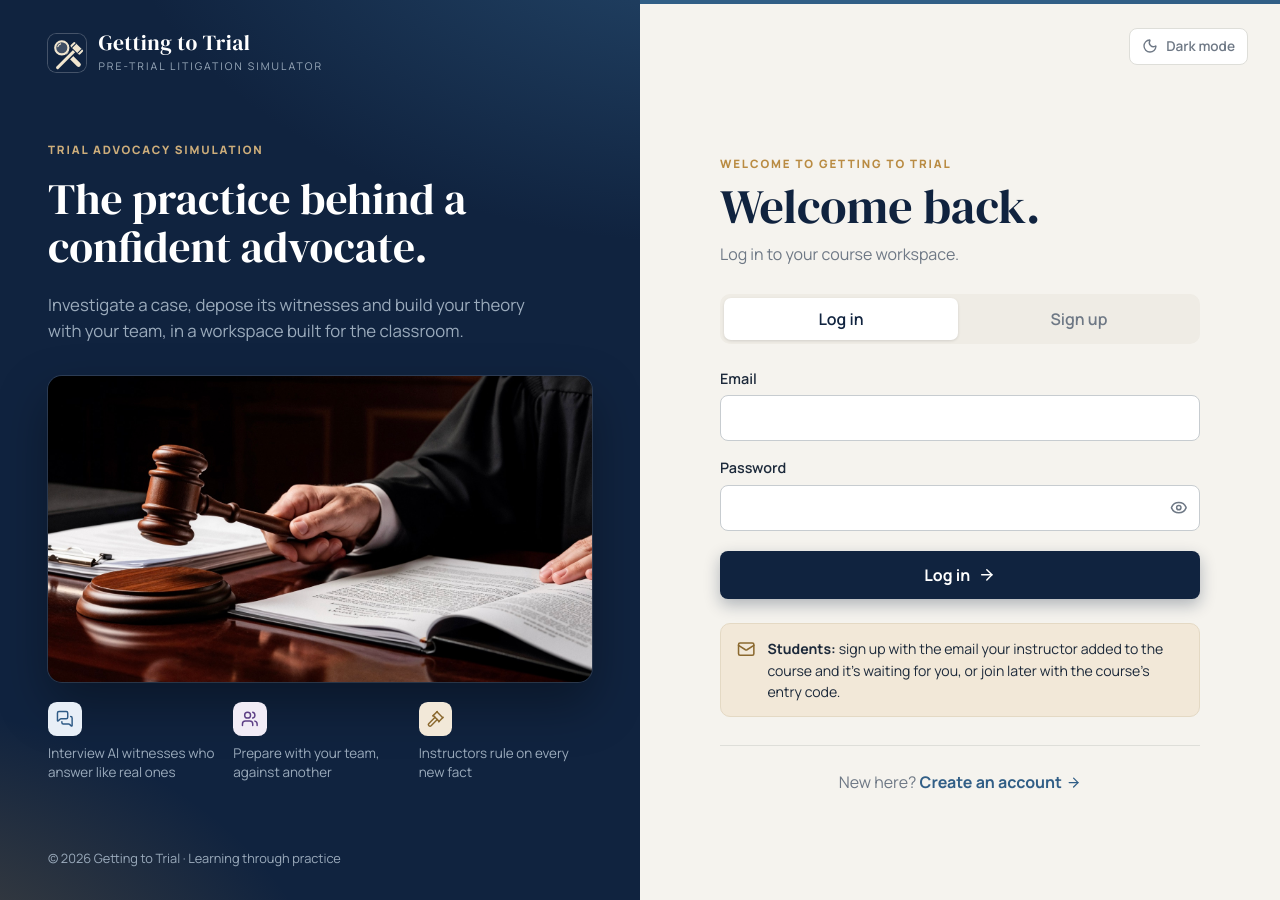
Test case: log in › logs in and shows the home page
Expected: the heading "Welcome back." is shown, [720,173,1040,239]
In the field labelled "Email": {"x": 960, "y": 418} [720,395,1200,442], type "ada@example.com"
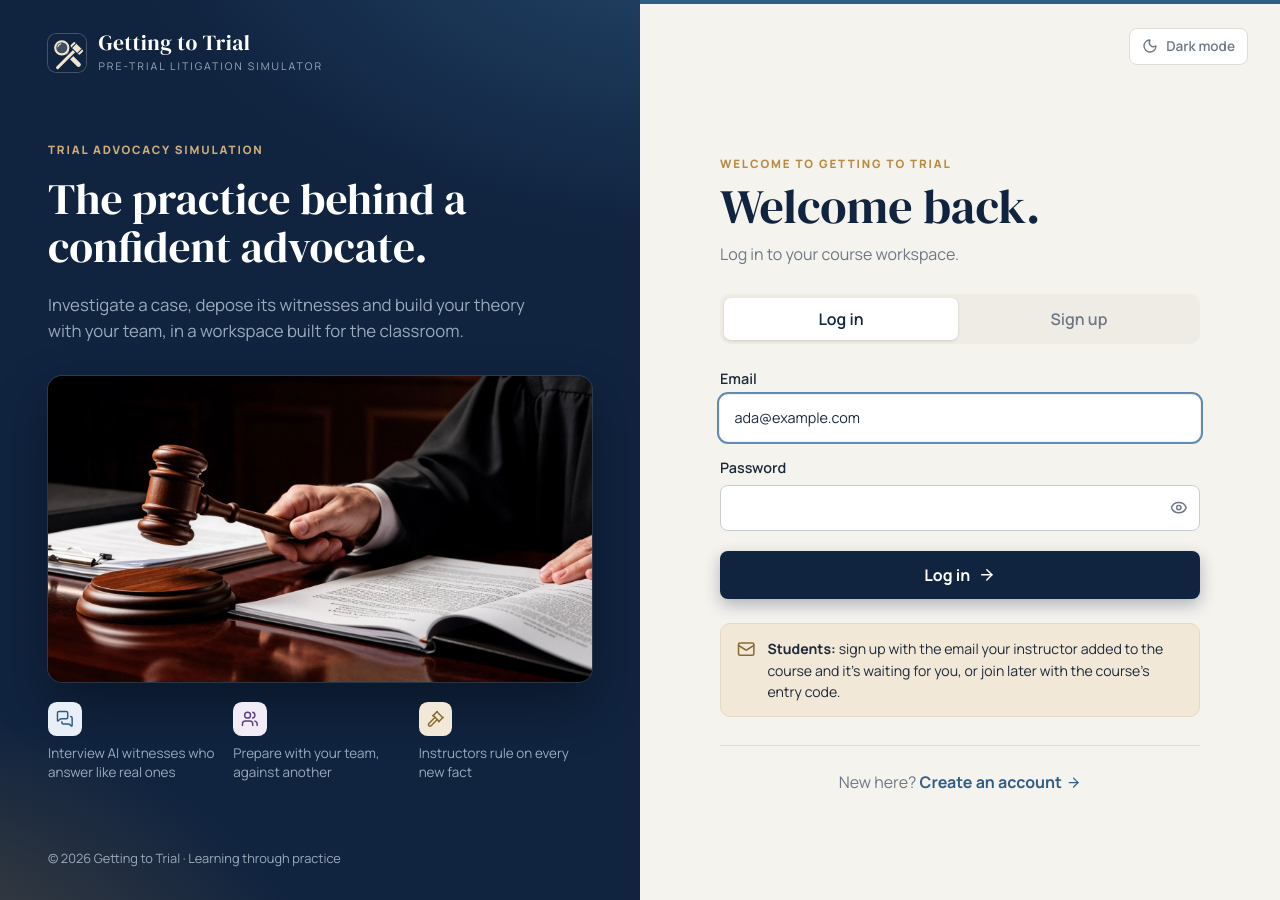
In the password field labelled "Password": {"x": 960, "y": 508} [720,485,1200,531], type "correct-horse"
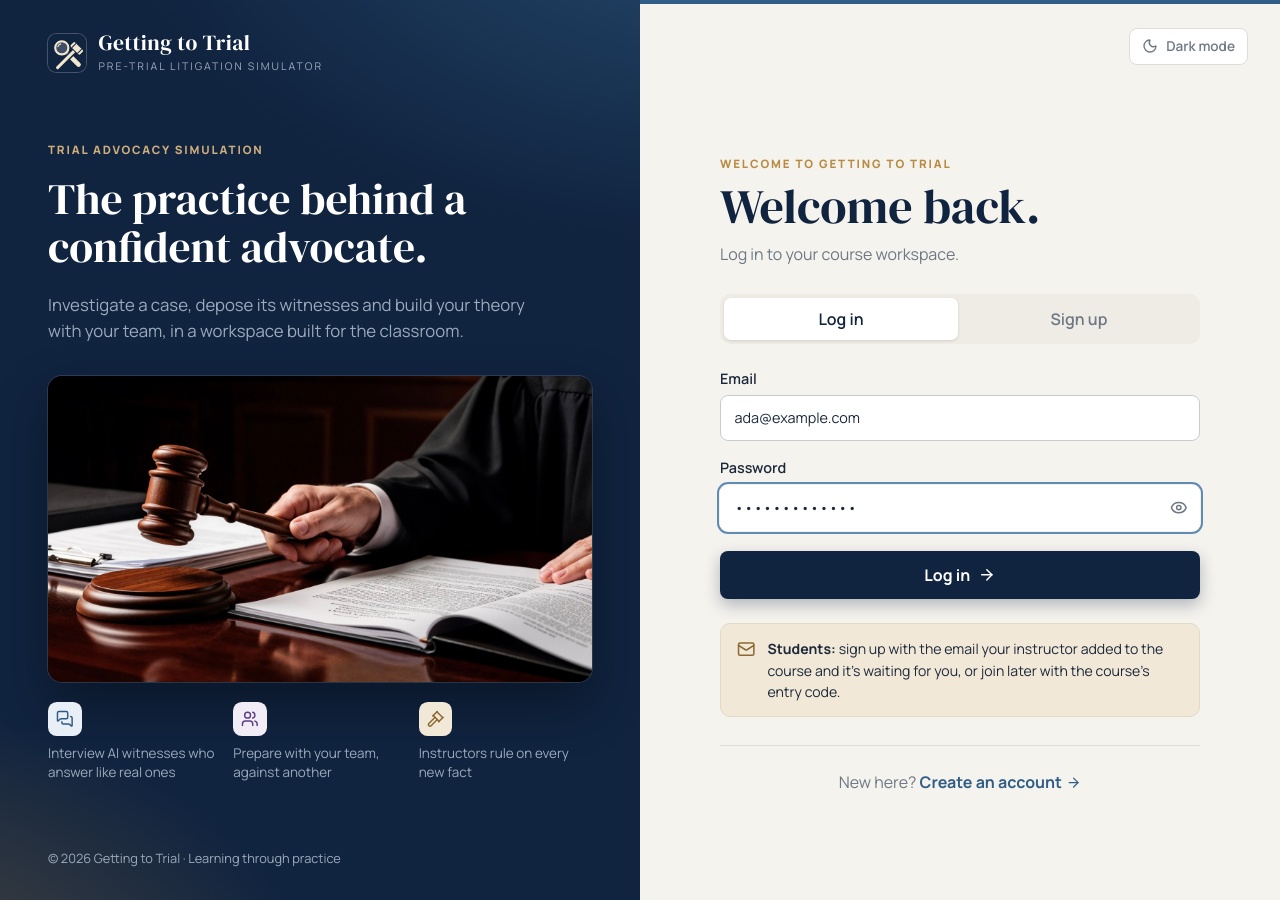
Click the button "Log in": {"x": 960, "y": 575} [720,551,1200,599]
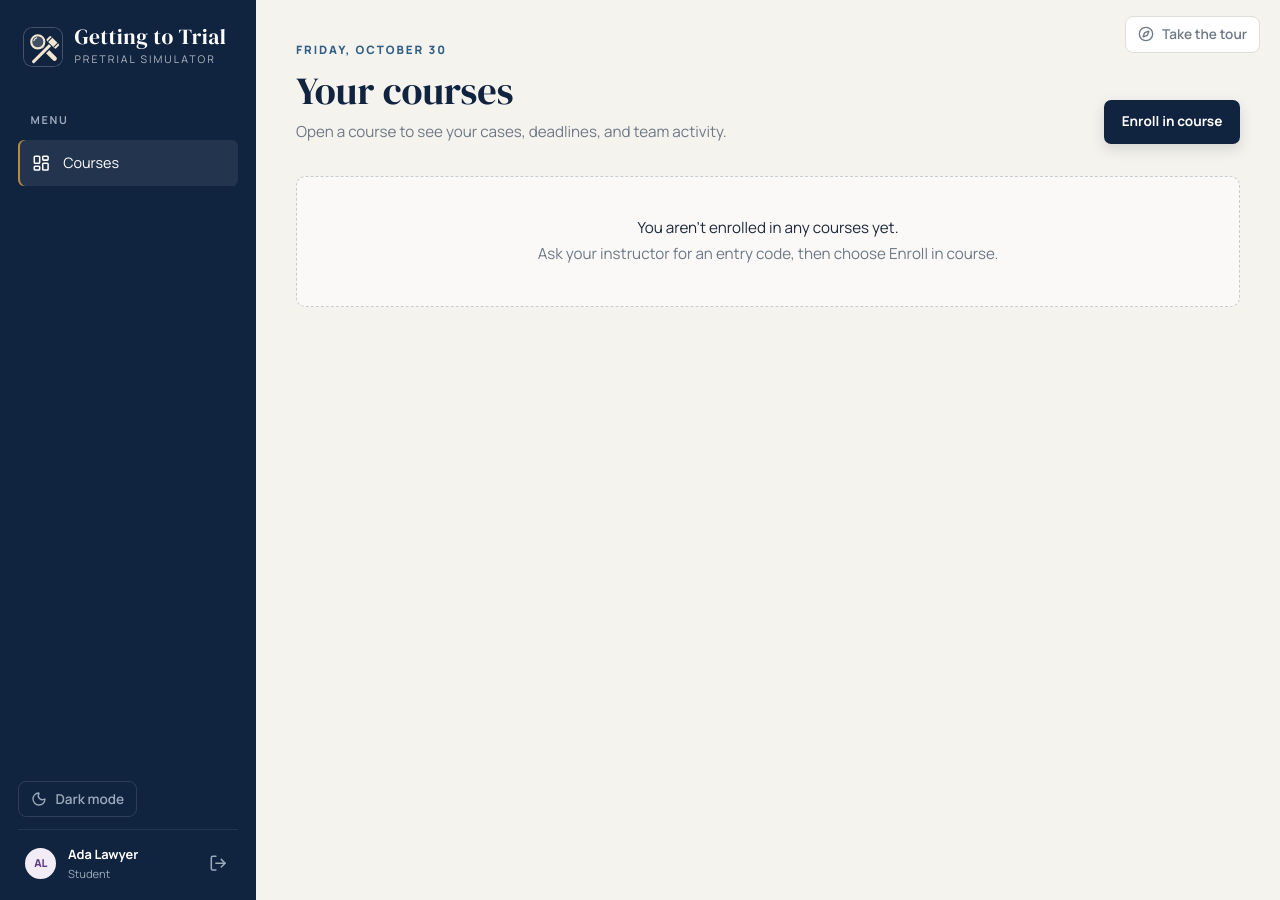
Result: the heading "Your courses" is shown at [296,64,514,117]
